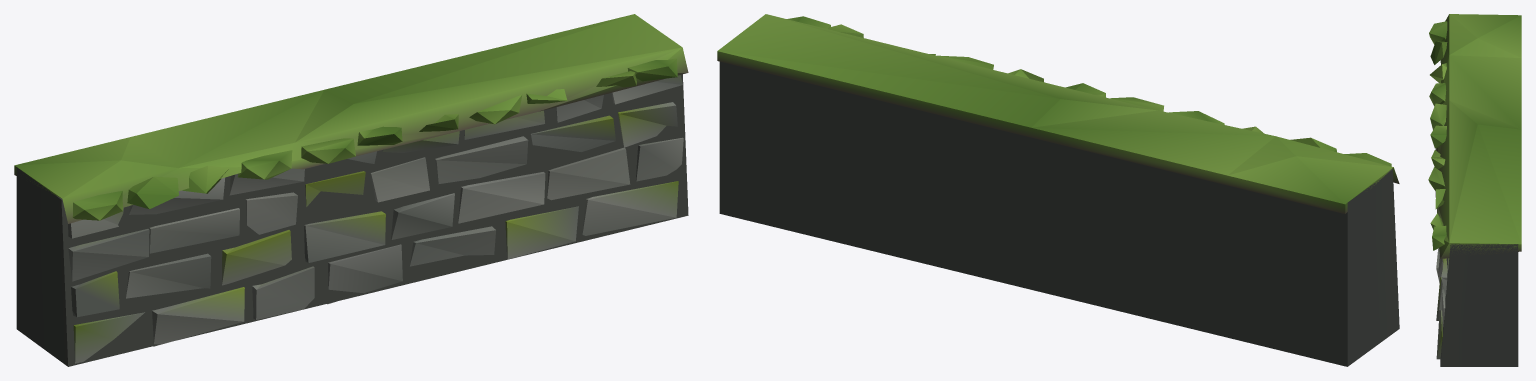
Rendered from zen_terrace_wall-lod1.glb.
3 views of the same model, side by side, from view 1: azimuth 30°, elevation 25°; view 2: azimuth 150°, elevation 25°; view 3: azimuth 270°, elevation 25° (orthographic). The views are drawn at different scales.
Visible parts, largest first — view 1: zen_terrace_wall; view 2: zen_terrace_wall; view 3: zen_terrace_wall.
Boxes of the visible parts, <box> form: zen_terrace_wall: <box>14,14,688,366</box>; zen_terrace_wall: <box>717,14,1399,366</box>; zen_terrace_wall: <box>1428,14,1521,366</box>.
Bounding box in the file's own units: 8 × 2.11 × 1.38.
